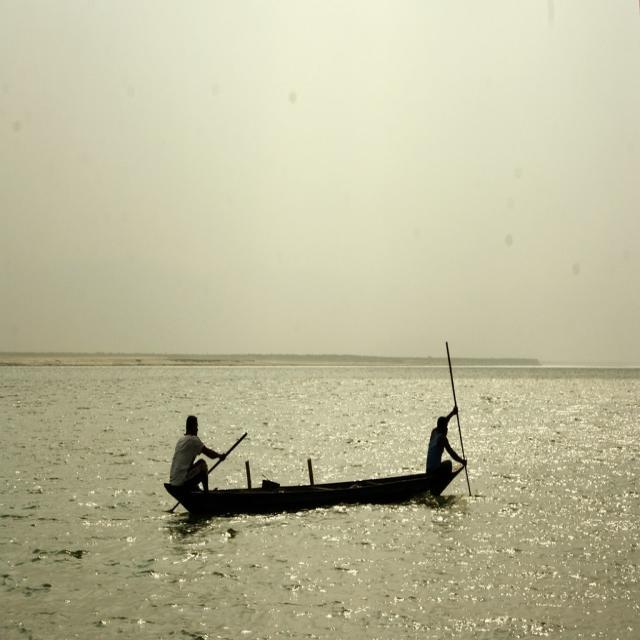boat: (161, 461, 487, 520)
